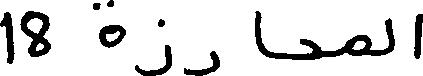X: (137, 14, 169, 75), (23, 6, 46, 61), (100, 0, 122, 52), (186, 46, 217, 75), (0, 7, 13, 68), (348, 30, 368, 60), (302, 34, 319, 64), (416, 9, 422, 63), (256, 6, 262, 58), (387, 13, 393, 58)
